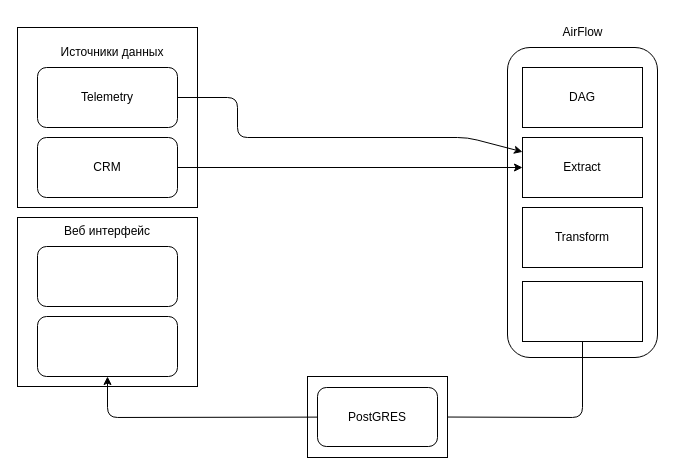
Image size: 675x475. Some labels were removed from this diagram. The shapes that lost their labels are listed below. From the top down, each one's centre as x and y in pixels, then its label:
At pixel 107 276: "FrontEnd".
At pixel 582 311: "LOAD".
At pixel 107 346: "BackEnd".
